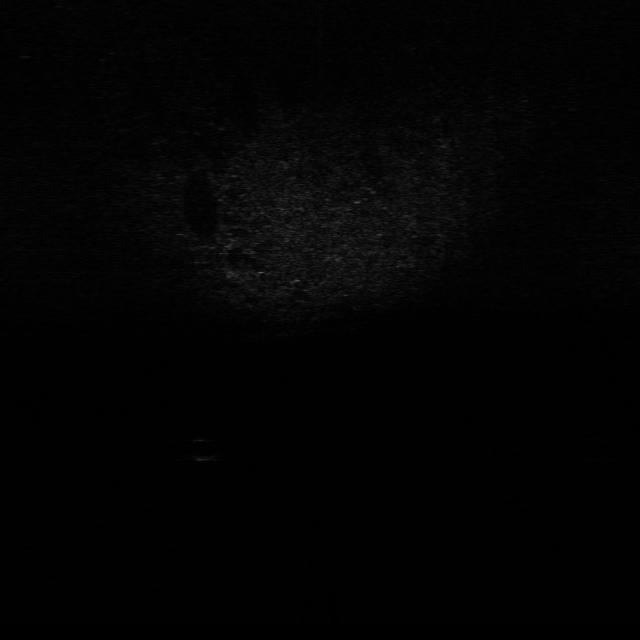ball: (181, 432, 223, 464)
